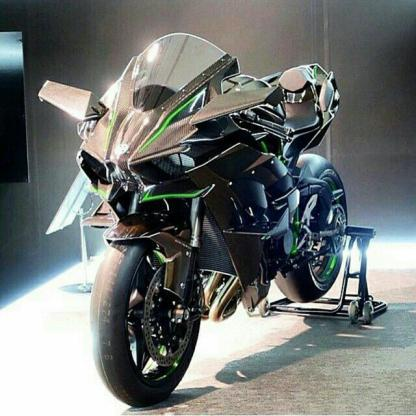Motorcycle: (29, 33, 355, 413)
